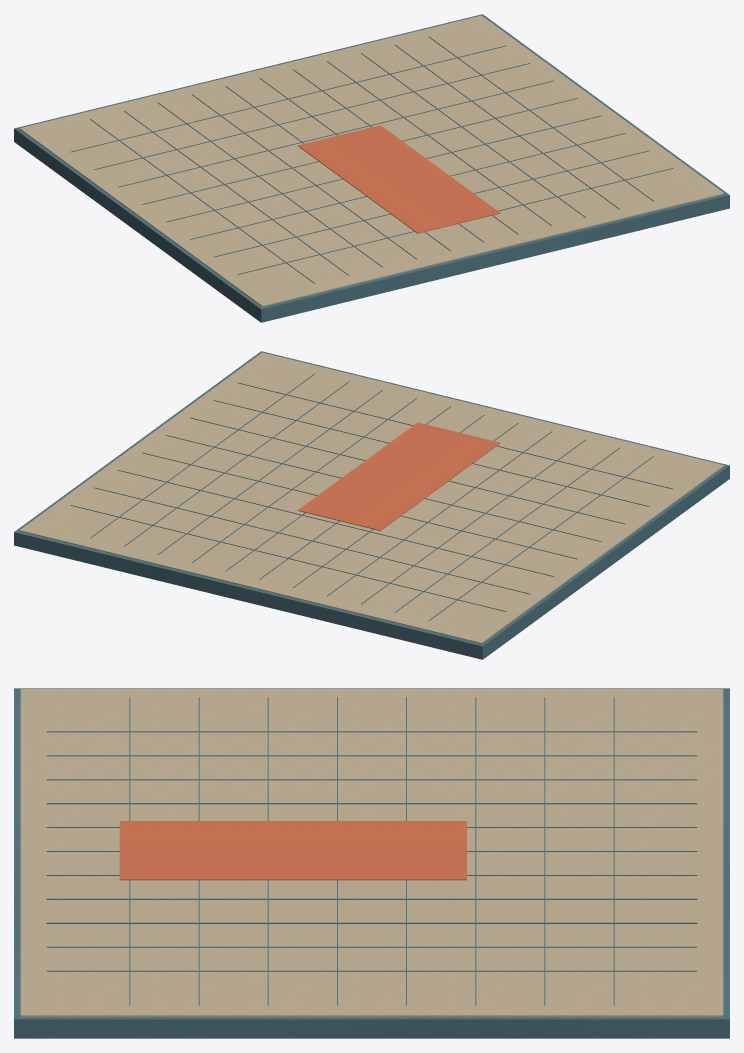
File: atlas100-s043-a07.glb
3 views of the same model, one above another, from view 1: azimuth 30°, elevation 25°; view 2: azimuth 150°, elevation 25°; view 3: azimuth 270°, elevation 25° (orthographic). The views are drawn at different scales.
Visible parts, largest first — view 1: atlas100-s043-a07:part-001, atlas100-s043-a07:part-000, atlas100-s043-a07:part-021, atlas100-s043-a07:part-015, atlas100-s043-a07:part-014, atlas100-s043-a07:part-013, atlas100-s043-a07:part-017, atlas100-s043-a07:part-016, atlas100-s043-a07:part-019, atlas100-s043-a07:part-018, atlas100-s043-a07:part-020; view 2: atlas100-s043-a07:part-001, atlas100-s043-a07:part-000, atlas100-s043-a07:part-021, atlas100-s043-a07:part-013, atlas100-s043-a07:part-015, atlas100-s043-a07:part-014, atlas100-s043-a07:part-016, atlas100-s043-a07:part-017, atlas100-s043-a07:part-019, atlas100-s043-a07:part-018, atlas100-s043-a07:part-020; view 3: atlas100-s043-a07:part-001, atlas100-s043-a07:part-000, atlas100-s043-a07:part-021, atlas100-s043-a07:part-009, atlas100-s043-a07:part-011, atlas100-s043-a07:part-012, atlas100-s043-a07:part-004, atlas100-s043-a07:part-005, atlas100-s043-a07:part-002, atlas100-s043-a07:part-003, atlas100-s043-a07:part-010, atlas100-s043-a07:part-015 (+2 smaller).
Boxes of the visible parts, bbox=[...] form: atlas100-s043-a07:part-001: bbox=[19, 15, 724, 306]; atlas100-s043-a07:part-000: bbox=[14, 14, 729, 322]; atlas100-s043-a07:part-021: bbox=[297, 125, 500, 233]; atlas100-s043-a07:part-015: bbox=[118, 80, 553, 187]; atlas100-s043-a07:part-014: bbox=[94, 63, 529, 169]; atlas100-s043-a07:part-013: bbox=[71, 45, 505, 152]; atlas100-s043-a07:part-017: bbox=[166, 115, 601, 222]; atlas100-s043-a07:part-016: bbox=[142, 98, 577, 204]; atlas100-s043-a07:part-019: bbox=[214, 150, 649, 257]; atlas100-s043-a07:part-018: bbox=[190, 133, 625, 239]; atlas100-s043-a07:part-020: bbox=[238, 168, 673, 274]; atlas100-s043-a07:part-001: bbox=[19, 352, 724, 643]; atlas100-s043-a07:part-000: bbox=[14, 351, 729, 659]; atlas100-s043-a07:part-021: bbox=[297, 422, 500, 530]; atlas100-s043-a07:part-013: bbox=[70, 505, 505, 611]; atlas100-s043-a07:part-015: bbox=[118, 470, 553, 576]; atlas100-s043-a07:part-014: bbox=[94, 487, 529, 594]; atlas100-s043-a07:part-016: bbox=[142, 452, 577, 559]; atlas100-s043-a07:part-017: bbox=[166, 435, 601, 541]; atlas100-s043-a07:part-019: bbox=[214, 400, 649, 506]; atlas100-s043-a07:part-018: bbox=[190, 417, 625, 524]; atlas100-s043-a07:part-020: bbox=[238, 382, 672, 489]; atlas100-s043-a07:part-001: bbox=[20, 689, 723, 1016]; atlas100-s043-a07:part-000: bbox=[14, 688, 729, 1038]; atlas100-s043-a07:part-021: bbox=[119, 821, 466, 880]; atlas100-s043-a07:part-009: bbox=[46, 898, 697, 899]; atlas100-s043-a07:part-011: bbox=[46, 946, 697, 947]; atlas100-s043-a07:part-012: bbox=[46, 970, 697, 971]; atlas100-s043-a07:part-004: bbox=[46, 779, 697, 780]; atlas100-s043-a07:part-005: bbox=[46, 803, 697, 804]; atlas100-s043-a07:part-002: bbox=[46, 731, 697, 732]; atlas100-s043-a07:part-003: bbox=[46, 755, 697, 756]; atlas100-s043-a07:part-010: bbox=[46, 922, 697, 923]; atlas100-s043-a07:part-015: bbox=[475, 697, 476, 1005].
Size of the model in its own units: 12.46 by 0.404 by 11.39.
Materials: 3 (3 with a texture image).
